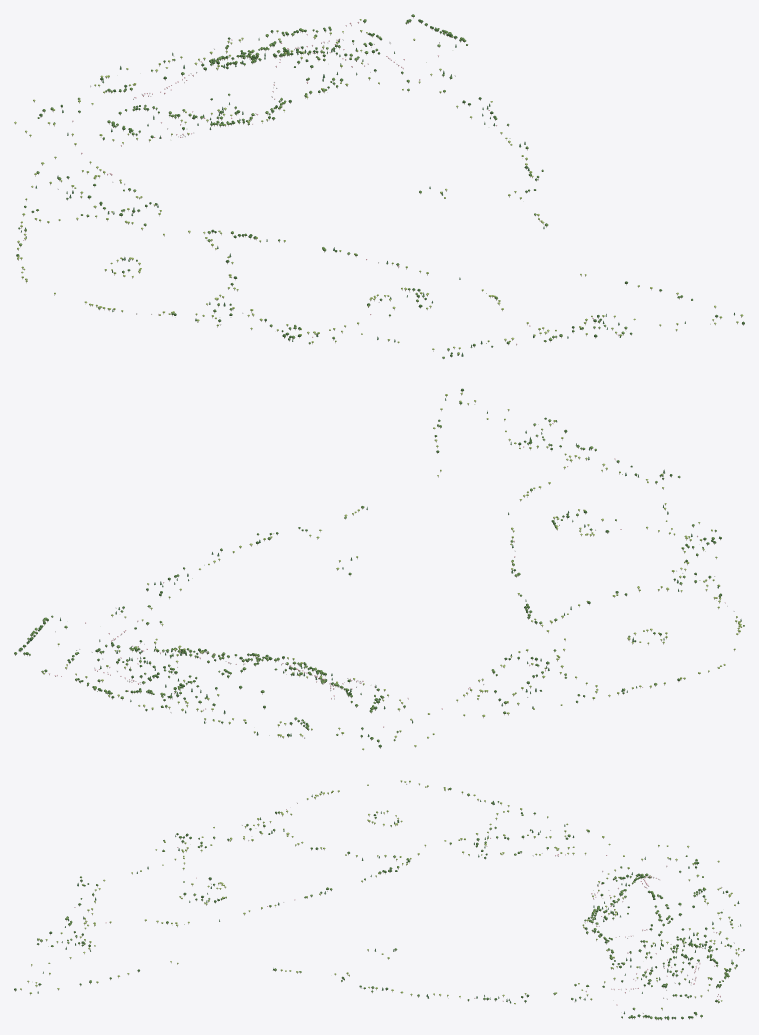
3 views of the same model, one above another, from view 1: azimuth 30°, elevation 25°; view 2: azimuth 150°, elevation 25°; view 3: azimuth 270°, elevation 25° (orthographic). The views are drawn at different scales.
Size of the model in its own units: 18.02 by 1.3 by 23.01.
